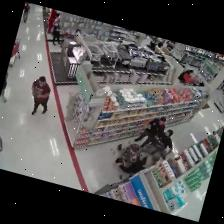person: (134, 117, 165, 147), (140, 130, 172, 158), (31, 76, 49, 114), (157, 130, 172, 154), (51, 22, 60, 45), (1, 73, 7, 102), (22, 2, 29, 22)
